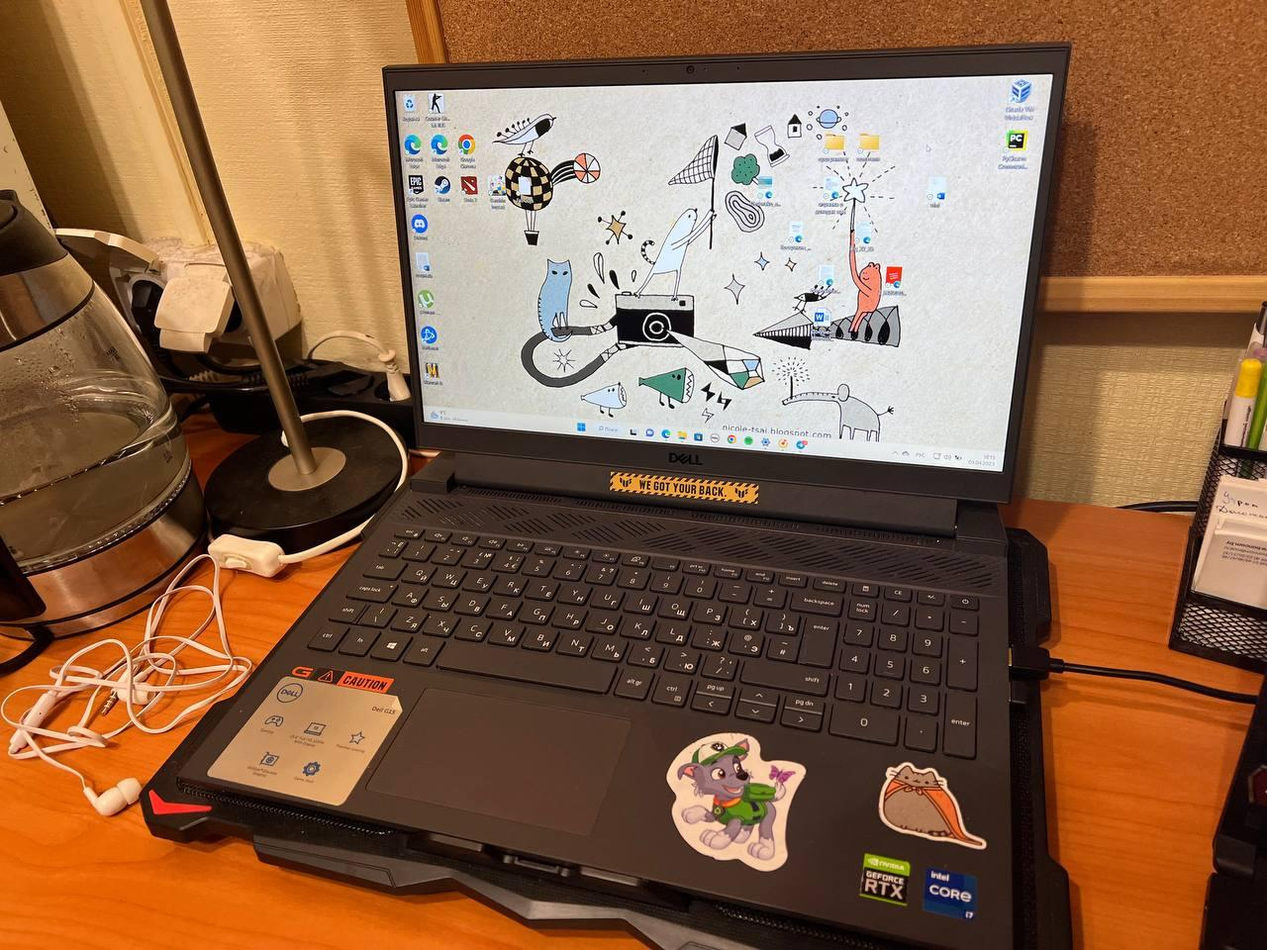monitor: (376, 40, 1076, 511)
